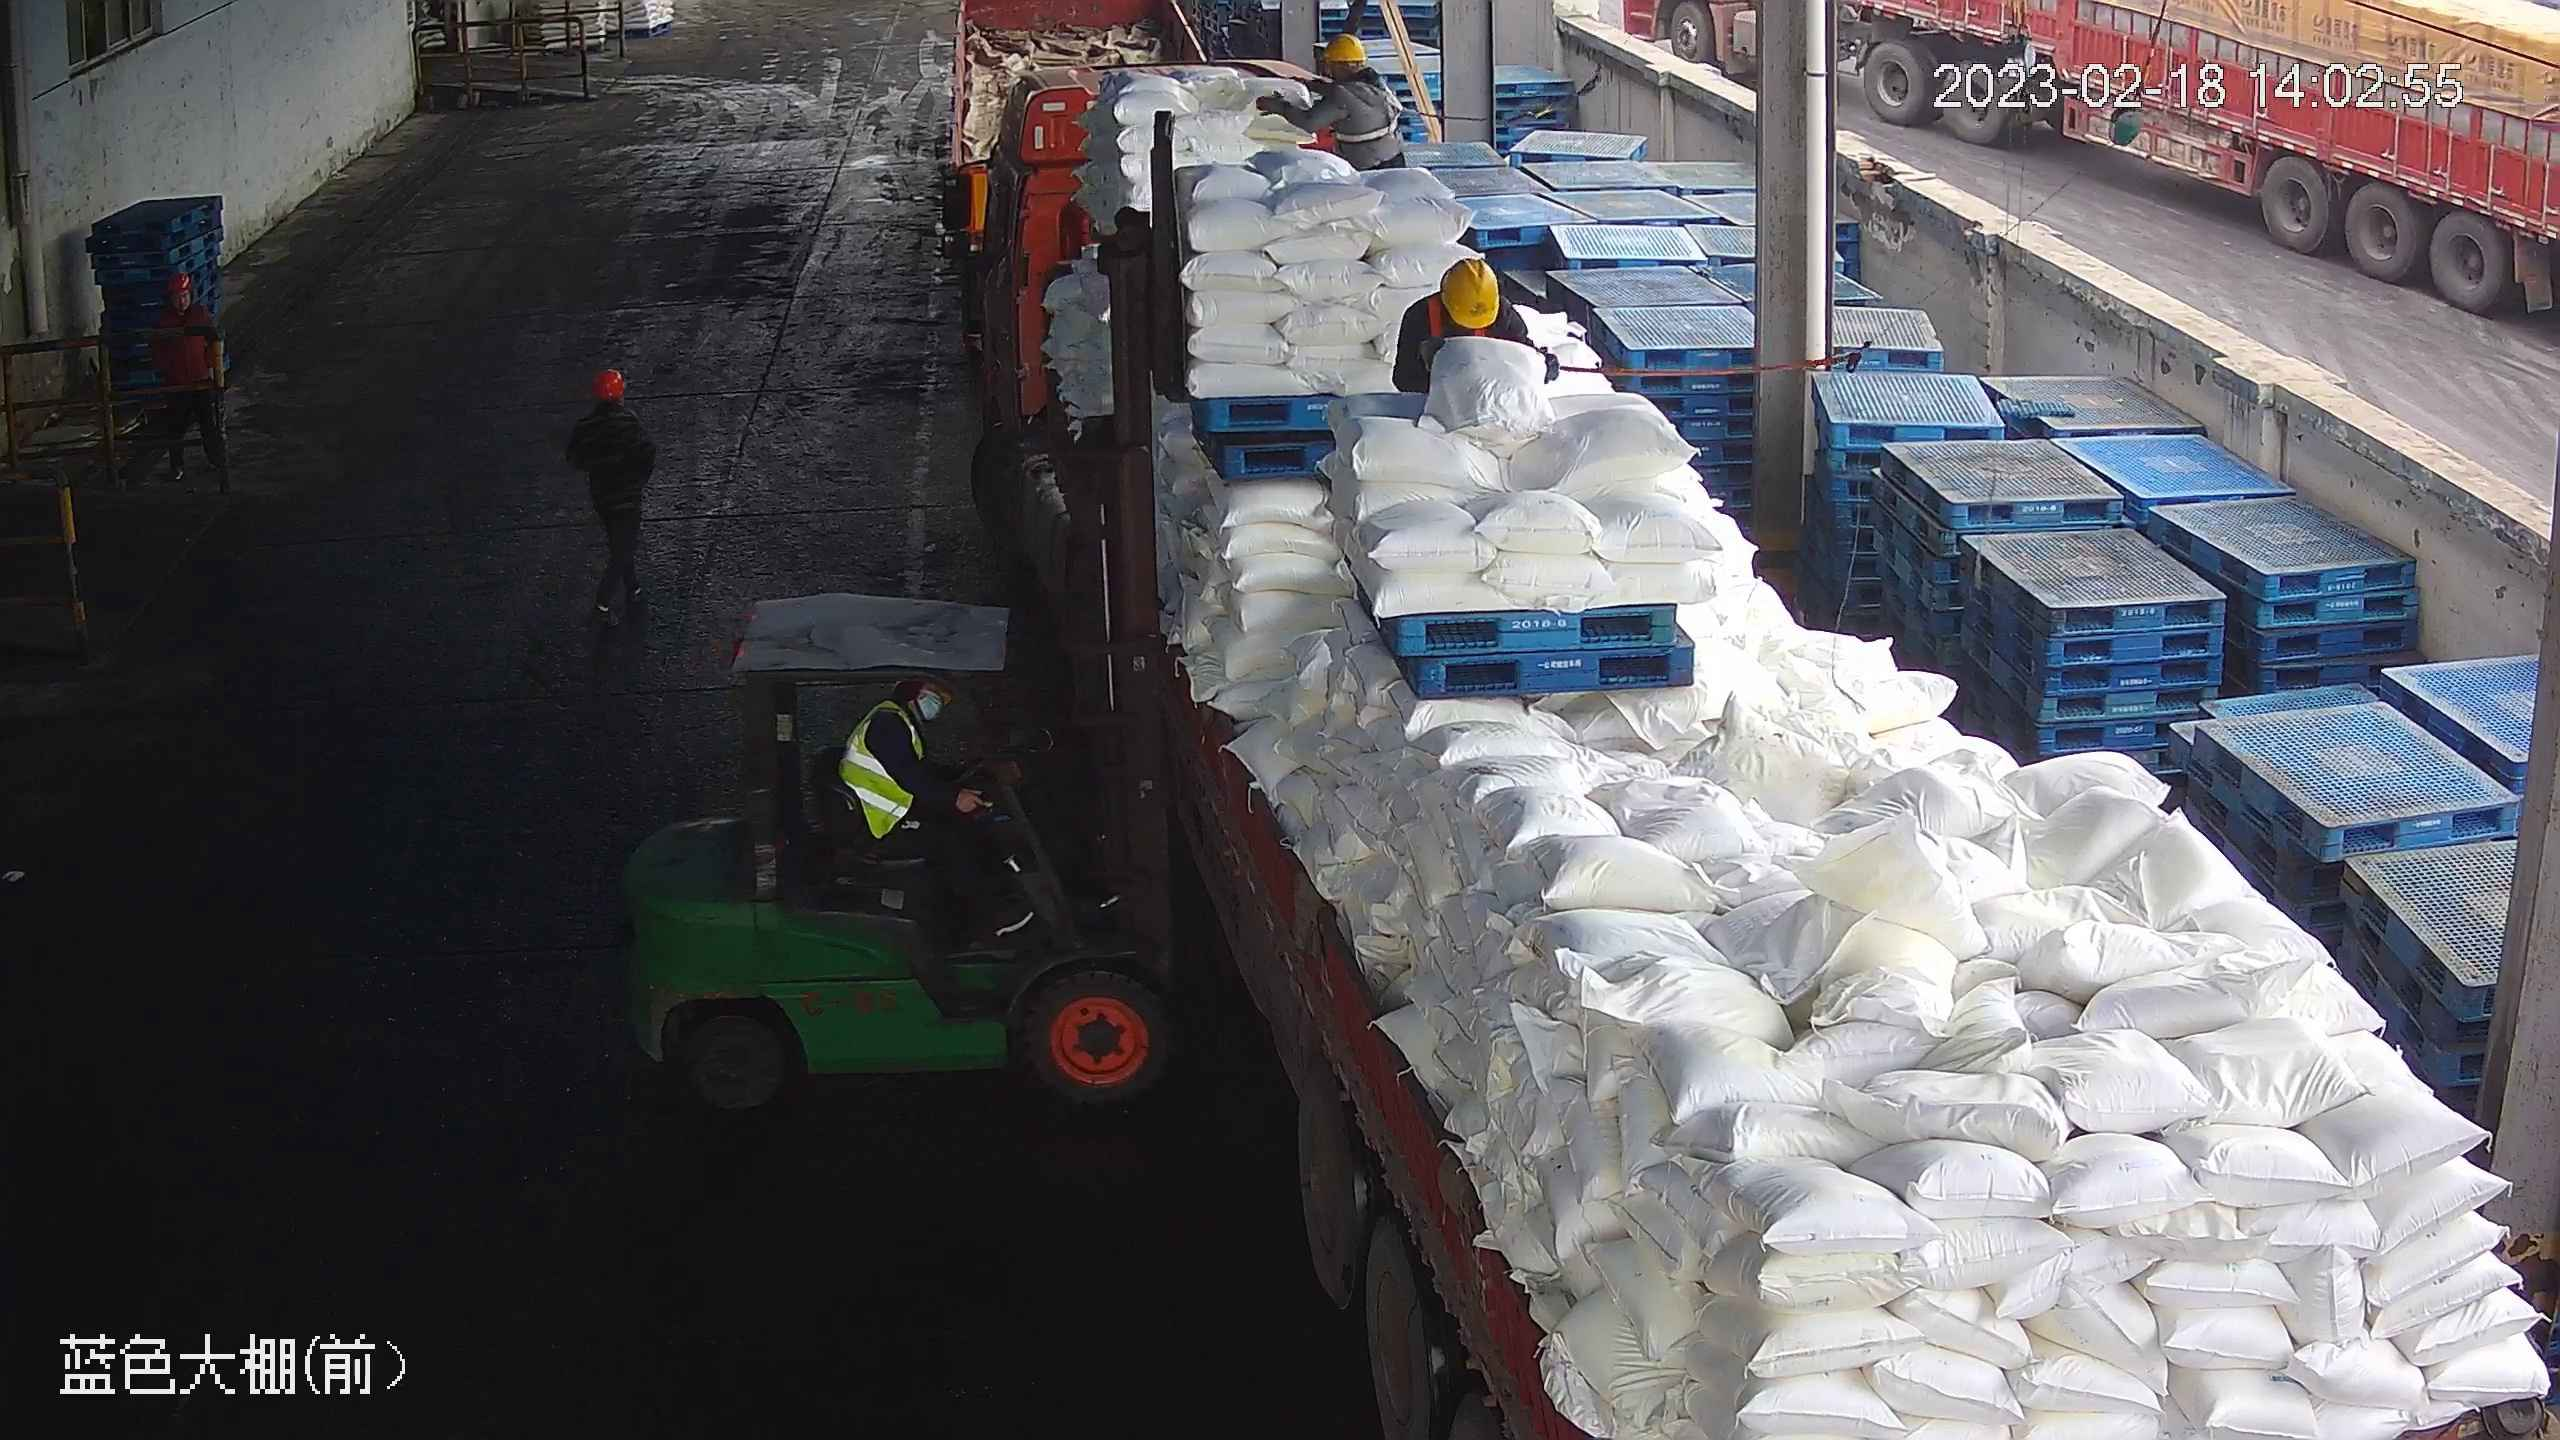belt: (1333, 74, 1402, 142)
head: (1404, 253, 1525, 339), (573, 367, 649, 447), (1310, 34, 1393, 103), (157, 270, 220, 333)
helmet: (1440, 256, 1498, 332), (1316, 33, 1368, 64), (591, 366, 626, 399), (166, 272, 192, 294)
people: (840, 679, 1029, 934), (566, 366, 657, 625), (147, 268, 236, 497)
truck: (967, 156, 2557, 1438)
